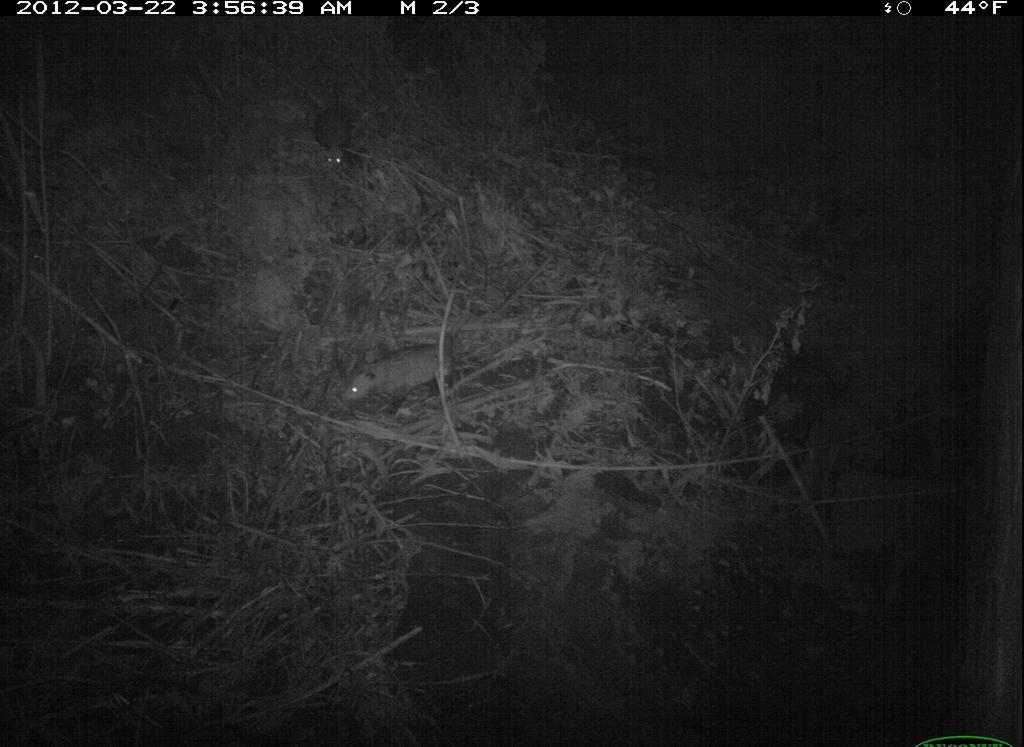opossum: (333, 329, 470, 420), (309, 95, 359, 180)
